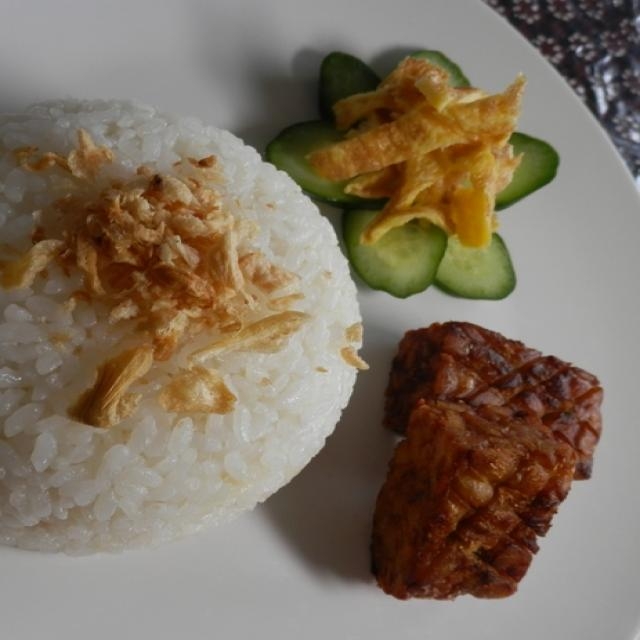米饭主食: (14, 26, 619, 600)
